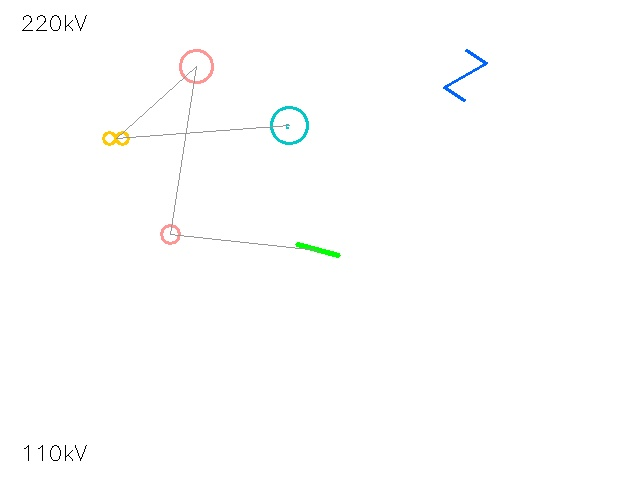busbar: (291, 223, 345, 277)
circuit_breaker: (441, 51, 489, 99)
generator: (271, 107, 307, 143)
load_break_switch: (152, 216, 188, 252)
surge_arrester: (163, 33, 229, 99)
transformer_2w: (100, 122, 132, 154)
